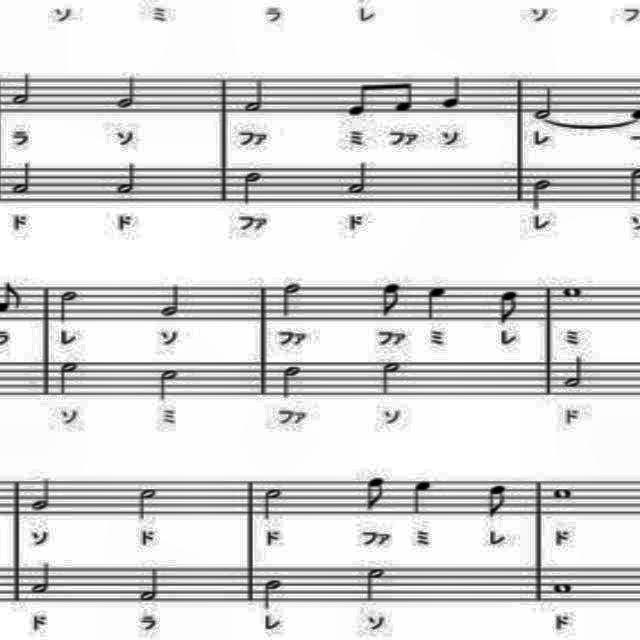Eighth-note: (383, 72, 423, 120), (342, 75, 382, 122), (481, 474, 515, 522), (378, 278, 409, 320), (494, 288, 524, 328), (360, 475, 390, 513)
Full-note: (561, 281, 585, 305), (550, 484, 578, 504), (550, 580, 578, 598)
Half-note: (530, 80, 562, 124), (26, 471, 54, 515), (134, 561, 162, 605), (361, 564, 391, 604), (242, 75, 270, 117), (156, 363, 184, 405), (524, 174, 554, 212), (8, 158, 34, 200), (54, 286, 82, 324), (117, 159, 143, 199), (56, 360, 82, 400), (259, 484, 285, 524), (281, 279, 303, 325), (28, 558, 52, 598), (272, 364, 300, 398), (12, 72, 36, 110), (159, 280, 181, 320), (116, 76, 140, 112), (345, 158, 367, 196), (380, 359, 400, 399), (241, 170, 263, 206), (262, 576, 284, 612), (138, 486, 158, 524)
Quarter-note: (409, 473, 437, 521), (560, 356, 592, 392), (422, 283, 450, 321), (441, 75, 467, 113)
